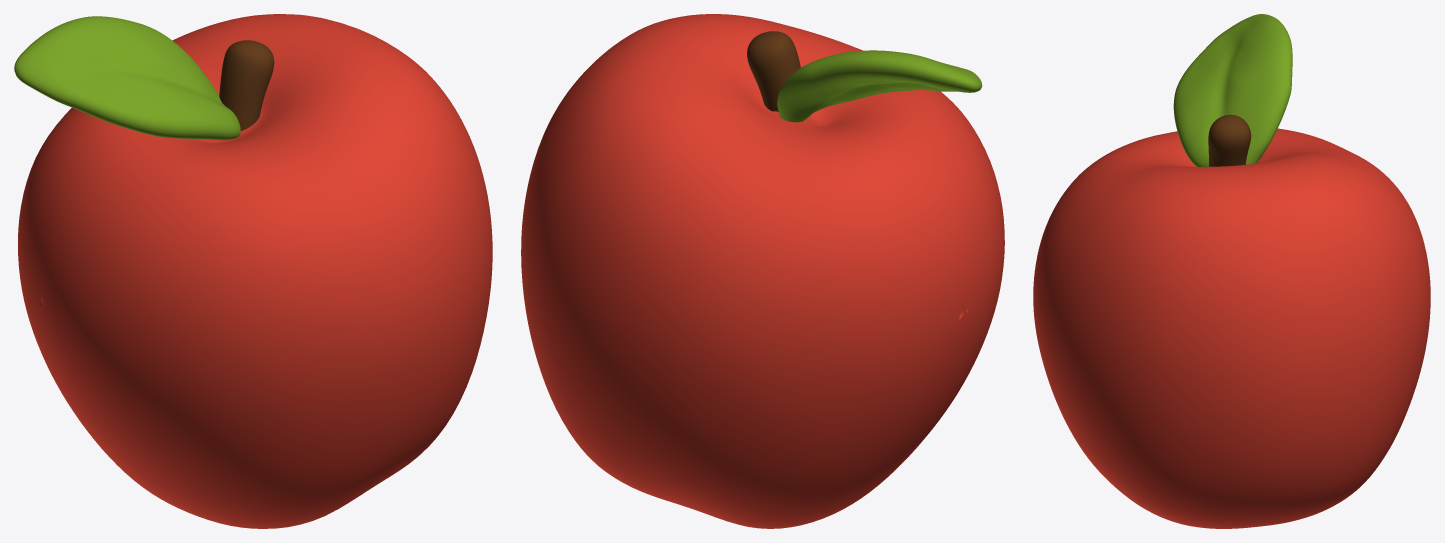
The model's file is AppleIcon.glb.
3 views of the same model, side by side, from view 1: azimuth 30°, elevation 25°; view 2: azimuth 150°, elevation 25°; view 3: azimuth 270°, elevation 25° (orthographic). The views are drawn at different scales.
Parts seen in each view (by area): view 1: Apple; view 2: Apple; view 3: Apple.
Boxes of the visible parts, box(x1,y1,x2,y2) form: Apple: box(14, 14, 492, 528); Apple: box(521, 14, 1004, 528); Apple: box(1033, 14, 1430, 528).
Bounding box in the file's own units: 8.9 × 9.83 × 8.4.
